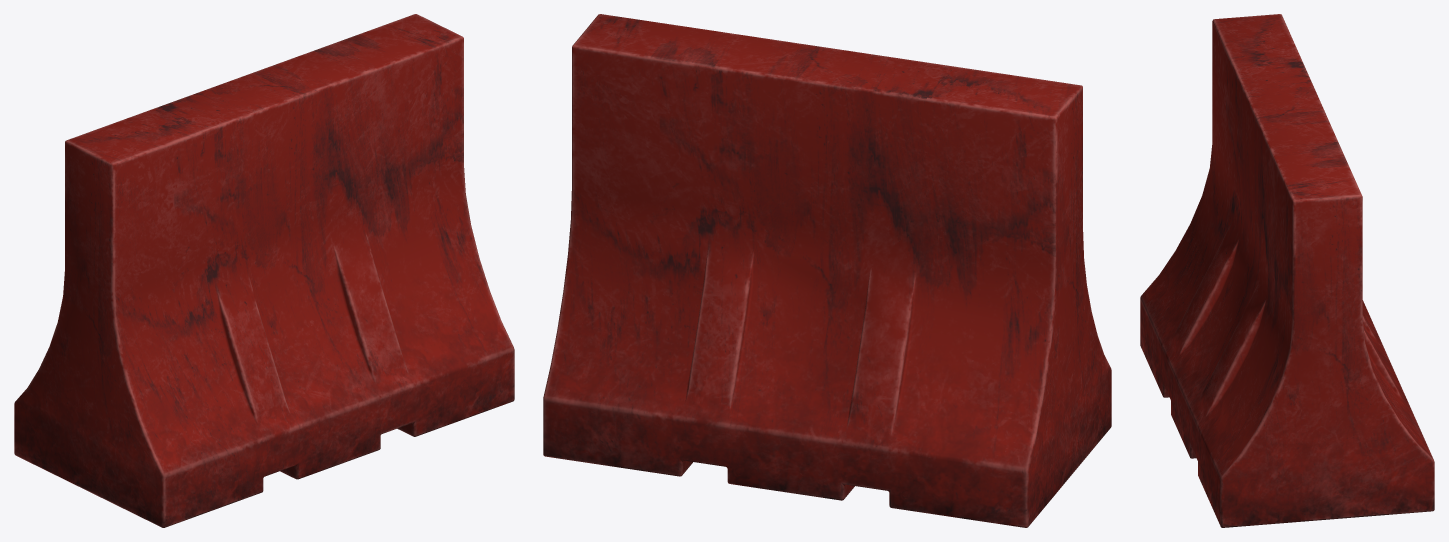
The model's file is street_red_barrier.fbx.
3 views of the same model, side by side, from view 1: azimuth 30°, elevation 25°; view 2: azimuth 150°, elevation 25°; view 3: azimuth 270°, elevation 25° (orthographic). The views are drawn at different scales.
Visible parts, largest first — view 1: street_red_barrier; view 2: street_red_barrier; view 3: street_red_barrier.
Part boxes in pixels (box(x1,y1,x2,y2)): street_red_barrier: box(14, 14, 514, 527); street_red_barrier: box(543, 14, 1111, 527); street_red_barrier: box(1140, 14, 1434, 527).
Bounding box in the file's own units: 2.82 × 2.12 × 1.76.
Materials: 1 (1 with a texture image).
